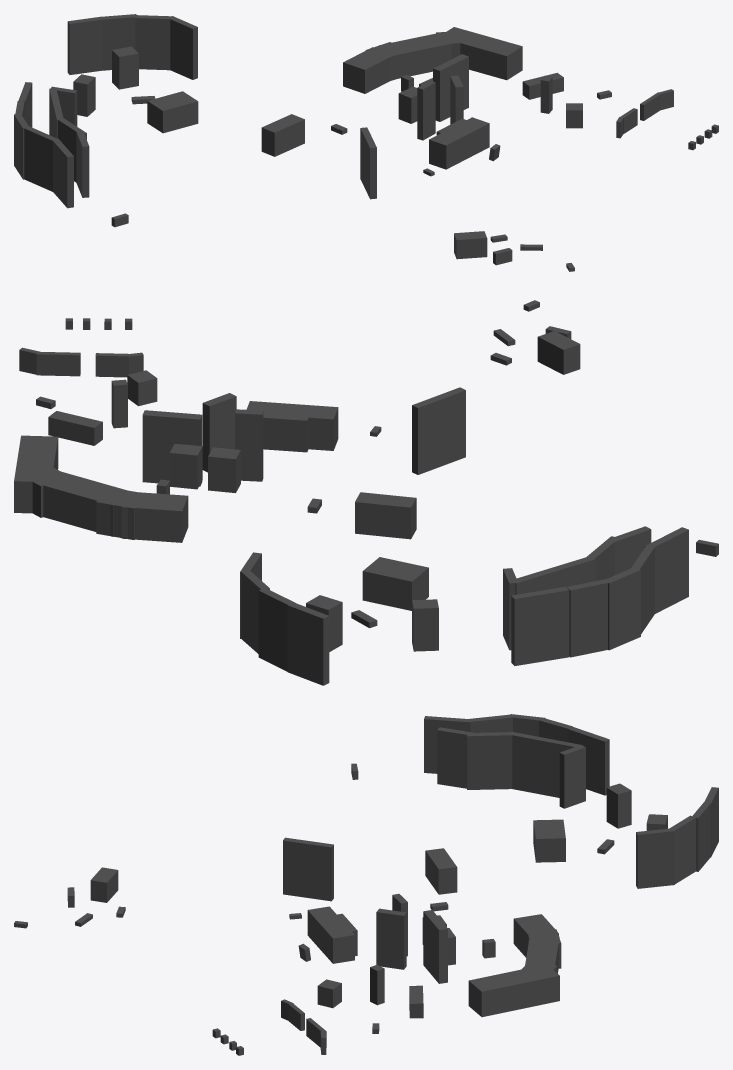
File: rocks.fbx
3 renders of one model, top to bottom at view 1: azimuth 30°, elevation 25°; view 2: azimuth 150°, elevation 25°; view 3: azimuth 270°, elevation 25°, orthographic. The views are drawn at different scales.
Visible parts, largest first — view 1: Cube.175; view 2: Cube.175; view 3: Cube.175.
Part boxes in pixels (left/top/right/bottom): Cube.175: left=14, top=14, right=718, bottom=271; Cube.175: left=14, top=300, right=718, bottom=685; Cube.175: left=14, top=714, right=718, bottom=1055.
Size of the model in its own units: 439 by 40.57 by 448.
